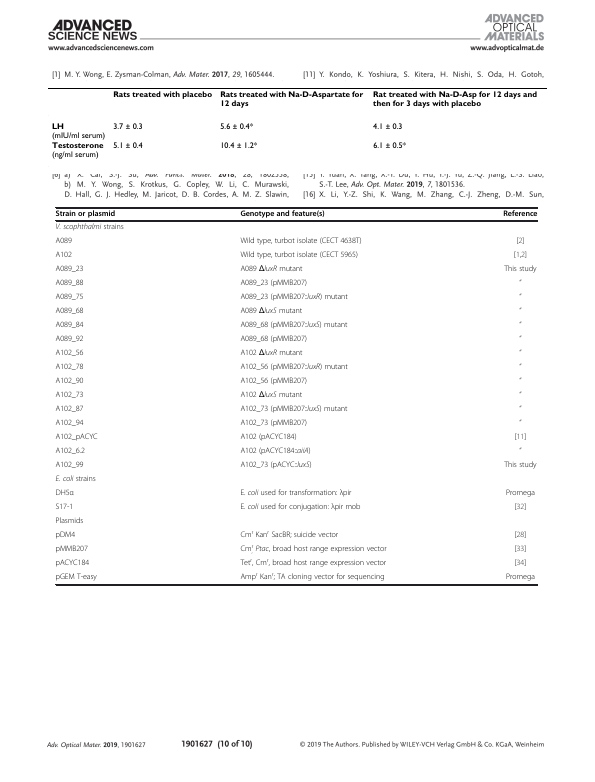borderless: (54, 206, 537, 584), (46, 86, 548, 168)
cell: (372, 91, 537, 109), (219, 91, 364, 109), (239, 543, 387, 555), (239, 557, 387, 569), (239, 571, 385, 583), (239, 237, 362, 247), (239, 503, 361, 513), (239, 251, 359, 261), (239, 529, 339, 541), (239, 489, 352, 499), (239, 293, 349, 303), (239, 363, 349, 373), (239, 321, 348, 331), (239, 405, 348, 415), (50, 122, 106, 141), (50, 142, 104, 160), (112, 91, 213, 100), (239, 210, 326, 219), (239, 461, 312, 471), (239, 447, 311, 457), (55, 223, 125, 233), (239, 279, 308, 289), (239, 335, 308, 345), (239, 377, 308, 387), (239, 419, 308, 429), (239, 265, 303, 275), (239, 307, 303, 317), (239, 349, 303, 359), (239, 391, 303, 401), (239, 433, 297, 443), (55, 210, 116, 219), (55, 433, 99, 443), (55, 573, 98, 583), (55, 475, 97, 485), (219, 141, 258, 151), (219, 122, 254, 132), (55, 559, 90, 569), (372, 141, 406, 151), (503, 265, 537, 275), (503, 461, 537, 471), (55, 545, 89, 555), (502, 210, 538, 219), (112, 122, 143, 132), (372, 122, 403, 132), (112, 141, 143, 151), (55, 447, 86, 457), (505, 489, 536, 499), (505, 573, 536, 583), (55, 265, 84, 275), (55, 279, 84, 289), (55, 293, 84, 303), (55, 307, 84, 317), (55, 321, 84, 331), (55, 335, 84, 345), (55, 349, 84, 359), (55, 363, 84, 373), (55, 377, 84, 387), (55, 391, 84, 401), (55, 405, 84, 415), (55, 419, 84, 429), (55, 461, 84, 471), (55, 517, 84, 527), (55, 531, 76, 541), (55, 489, 75, 499), (55, 503, 74, 513), (55, 237, 73, 247), (55, 251, 73, 261), (513, 251, 528, 261), (513, 433, 527, 443), (513, 503, 527, 513), (513, 531, 527, 541), (513, 545, 527, 555), (513, 559, 527, 569), (515, 237, 525, 247), (518, 279, 522, 287), (518, 293, 522, 301), (518, 307, 522, 315), (518, 321, 522, 329), (518, 335, 522, 343), (518, 349, 522, 357), (518, 363, 522, 371), (518, 377, 522, 385), (518, 391, 522, 399), (518, 405, 522, 413), (518, 419, 522, 427), (518, 447, 522, 455)
